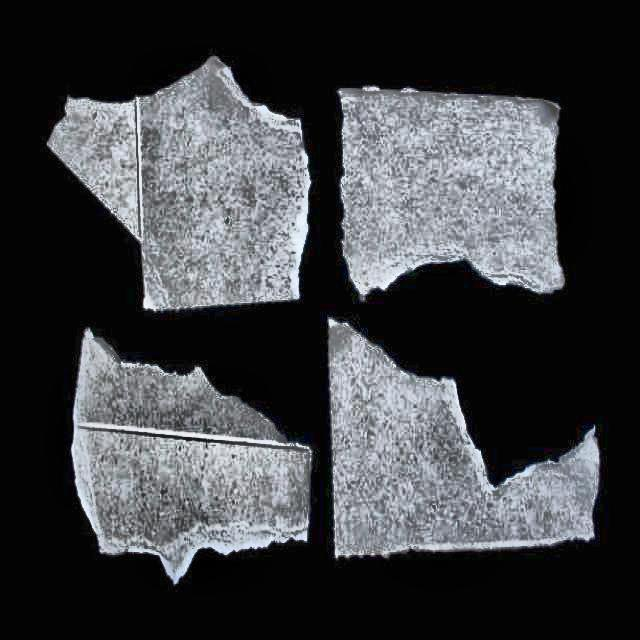cardboard: (48, 60, 311, 314), (326, 320, 599, 561), (69, 337, 313, 586), (338, 87, 566, 303)
